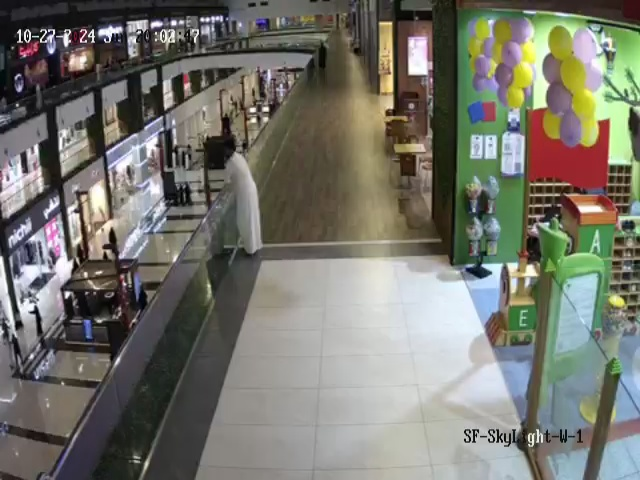female: (29, 302, 55, 336), (173, 179, 200, 205), (106, 217, 123, 257), (312, 38, 331, 72), (72, 238, 92, 264)
male: (222, 135, 274, 266), (1, 330, 29, 367)
